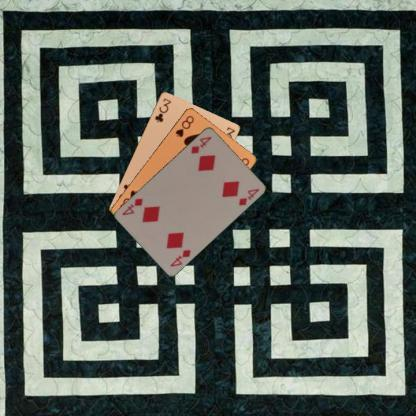3c: (152, 95, 172, 124)
4d: (188, 133, 214, 155), (168, 245, 192, 268)
8s: (172, 113, 196, 138)
